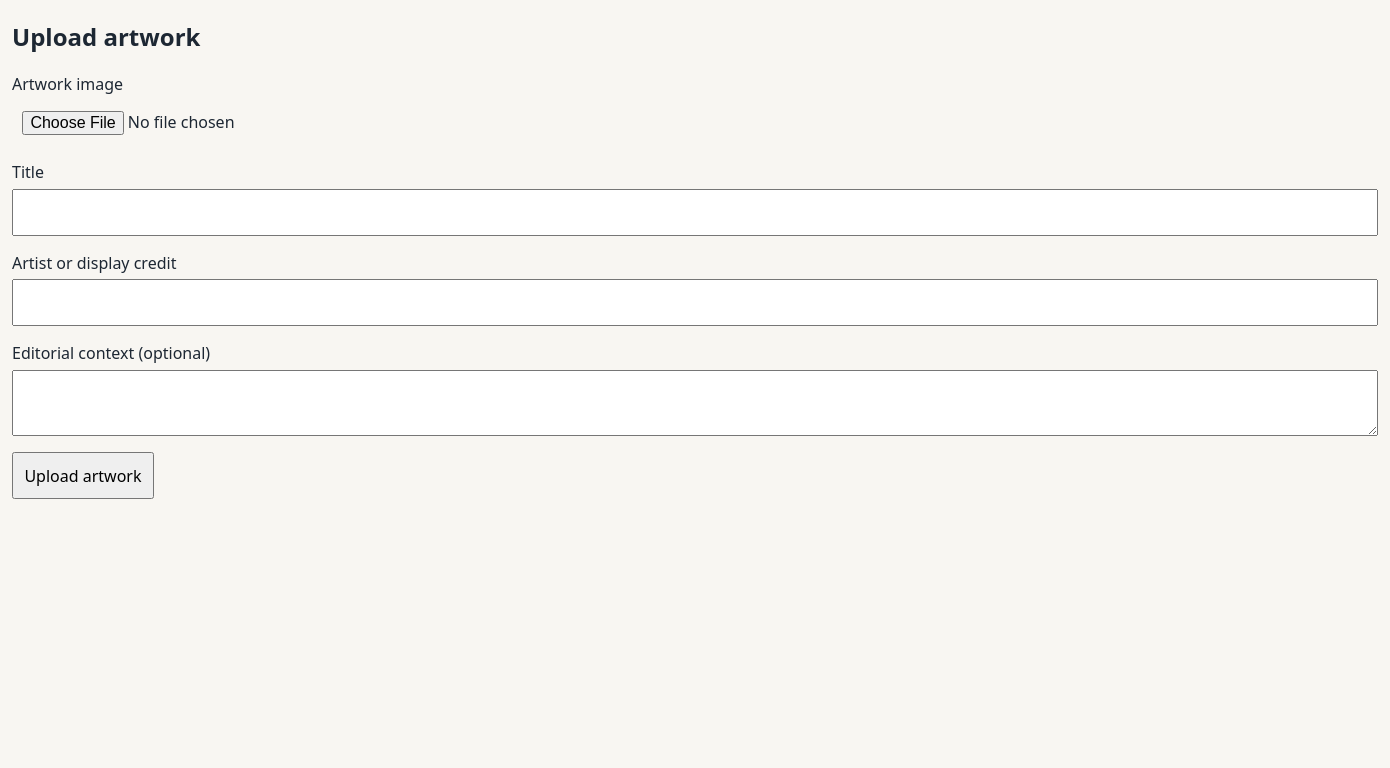
Test case: ArtworkUploadForm › links an image-required error summary to the image field
Type "Blue Study" into the field labelled "Title". click: (695, 212)
box: [12,189,1378,236]
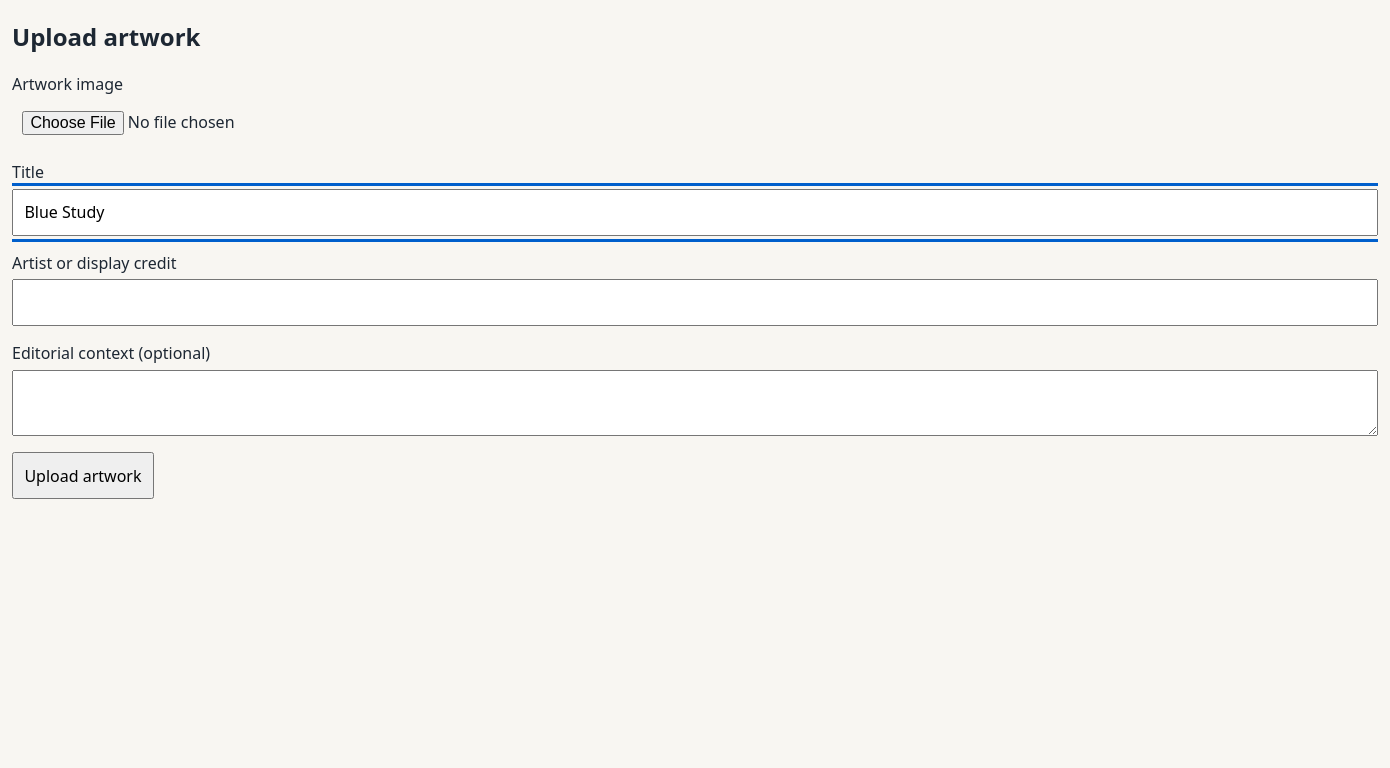
Type "A. Artist" into the field labelled "Artist or display credit". click: (695, 303)
box: [12,279,1378,326]
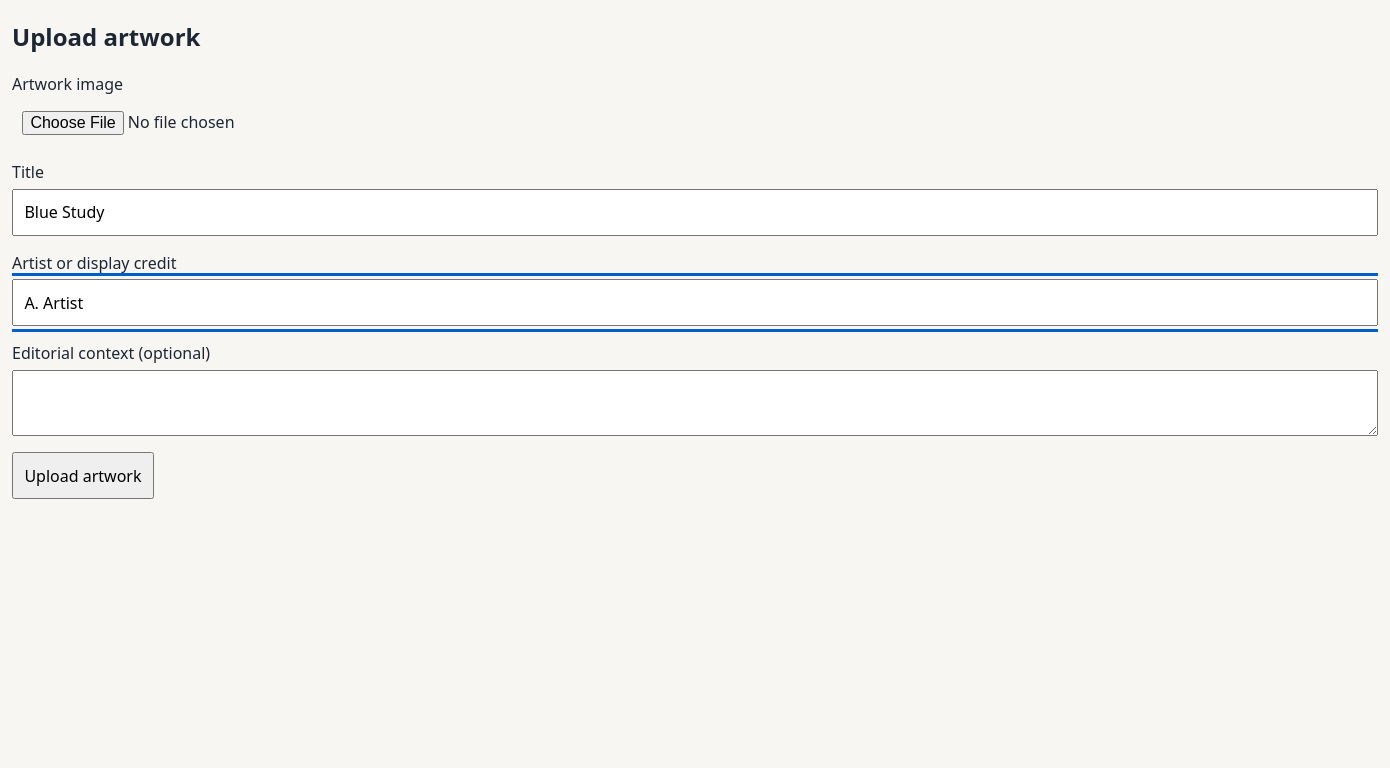
Click the button "Upload artwork". click: (83, 476)
box: [12,452,154,499]
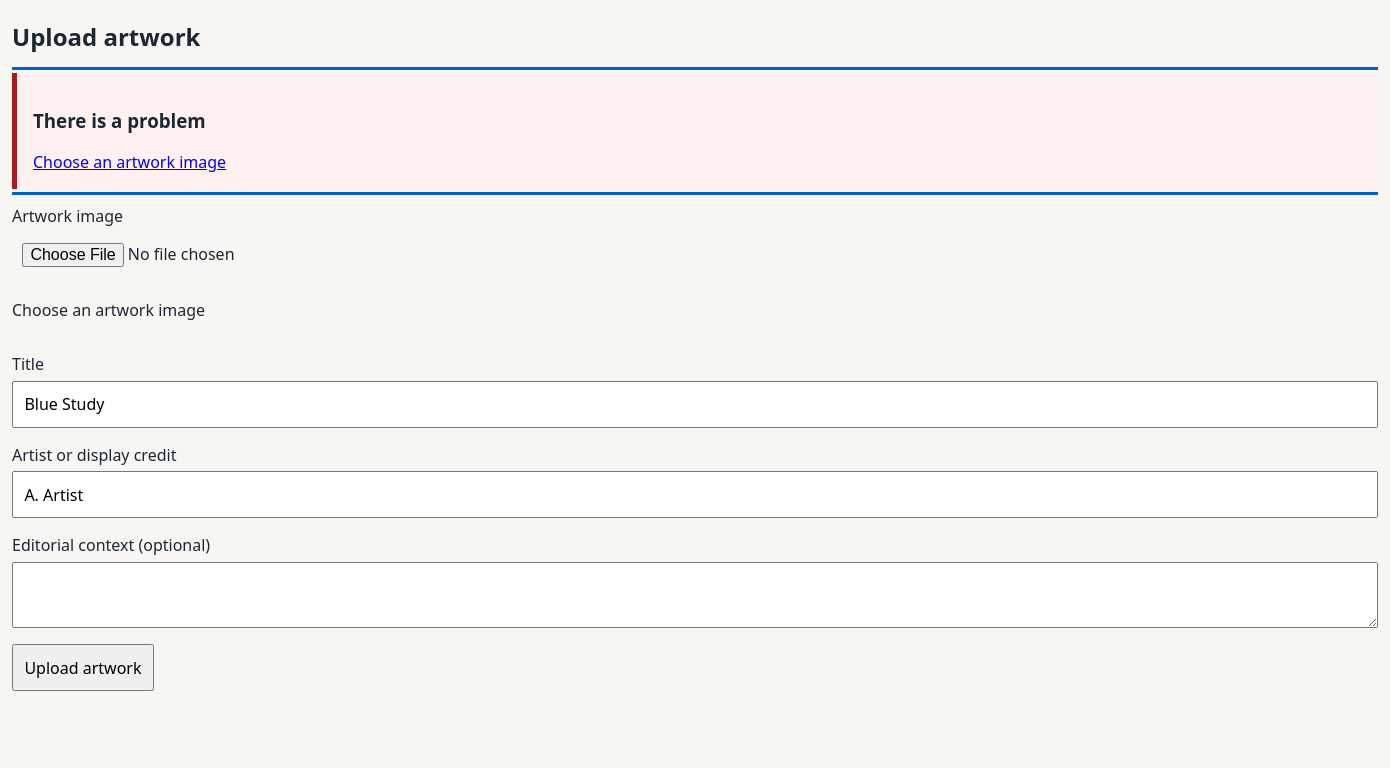
Check: the message shows "Choose an artwork image", box [33,151,226,173]
